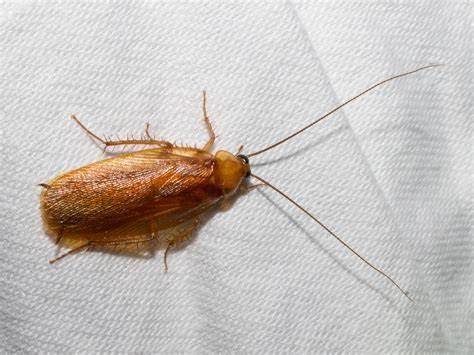cockroach: (34, 121, 268, 265)
